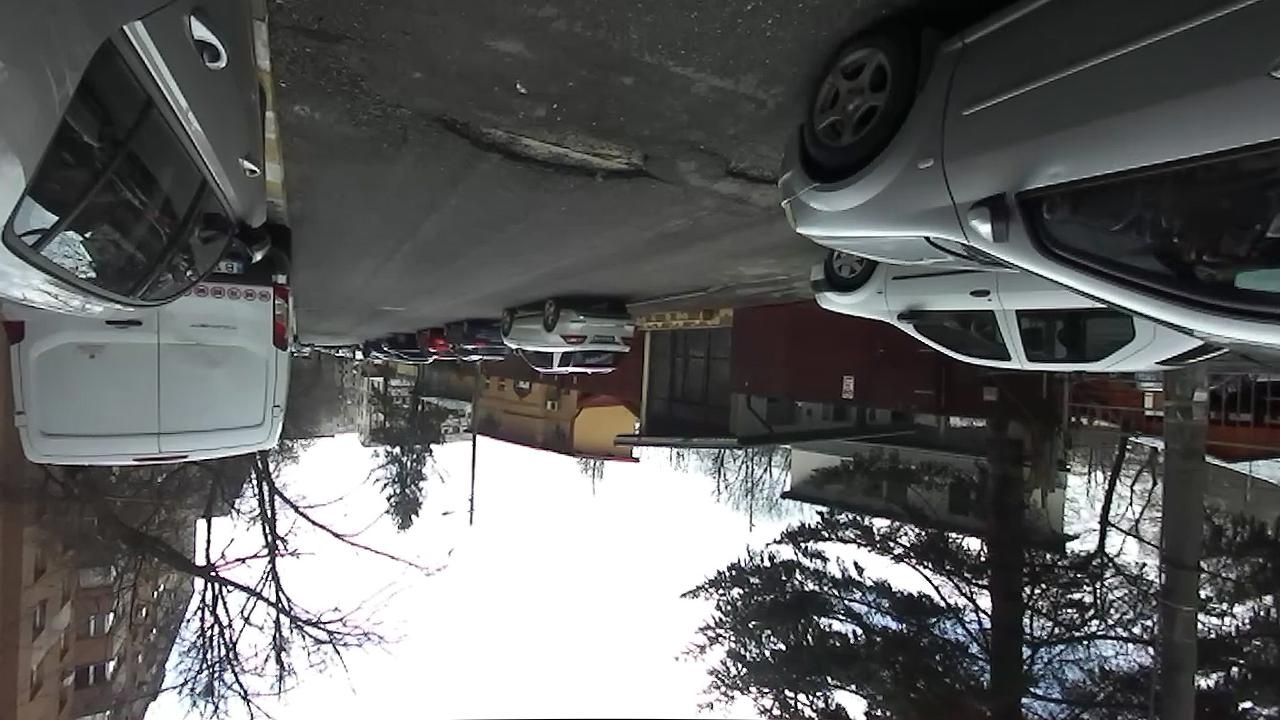pothole: (414, 103, 667, 187), (714, 150, 780, 192)
